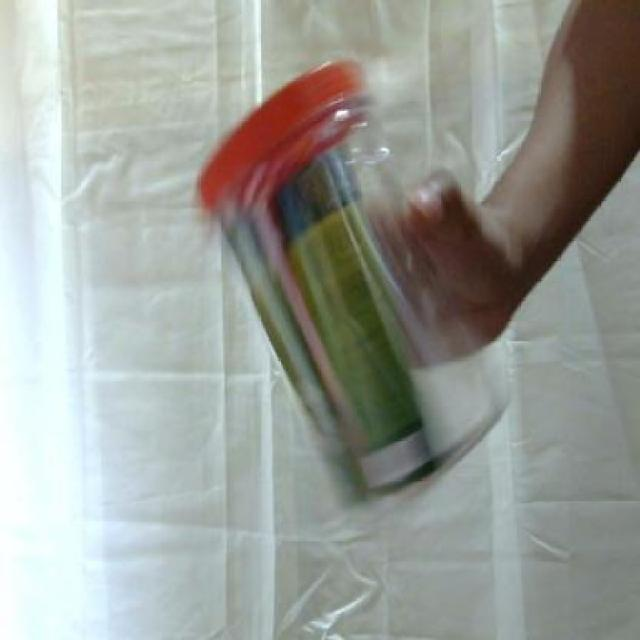Plastic: (192, 49, 516, 518)
